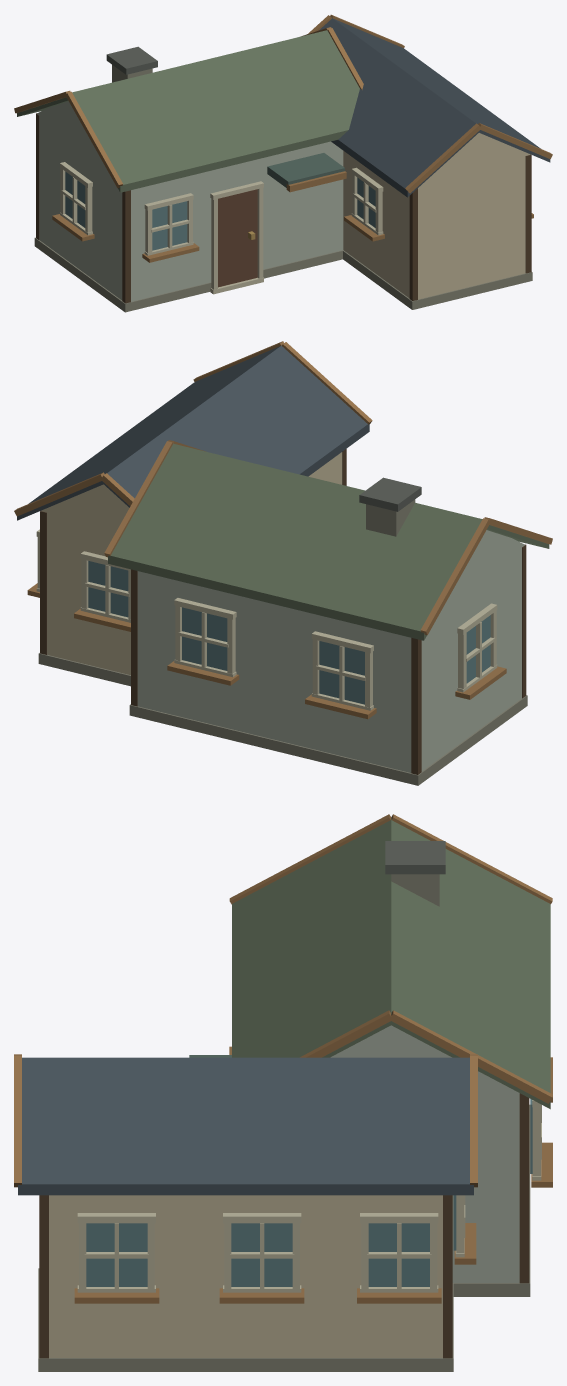
Rendered from Building_Settlement_CourtyardDwelling_001.glb.
The picture shows the model from 3 angles, top to bottom: view 1: azimuth 30°, elevation 25°; view 2: azimuth 150°, elevation 25°; view 3: azimuth 270°, elevation 25°; orthographic projection. The views are drawn at different scales.
Visible parts, largest first — view 1: Building_Settlement_CourtyardDwelling_001; view 2: Building_Settlement_CourtyardDwelling_001; view 3: Building_Settlement_CourtyardDwelling_001.
Boxes of the visible parts, bbox=[...] form: Building_Settlement_CourtyardDwelling_001: bbox=[14, 14, 552, 312]; Building_Settlement_CourtyardDwelling_001: bbox=[14, 341, 552, 785]; Building_Settlement_CourtyardDwelling_001: bbox=[14, 814, 552, 1371].
Size of the model in its own units: 8.04 by 4.24 by 6.68.
